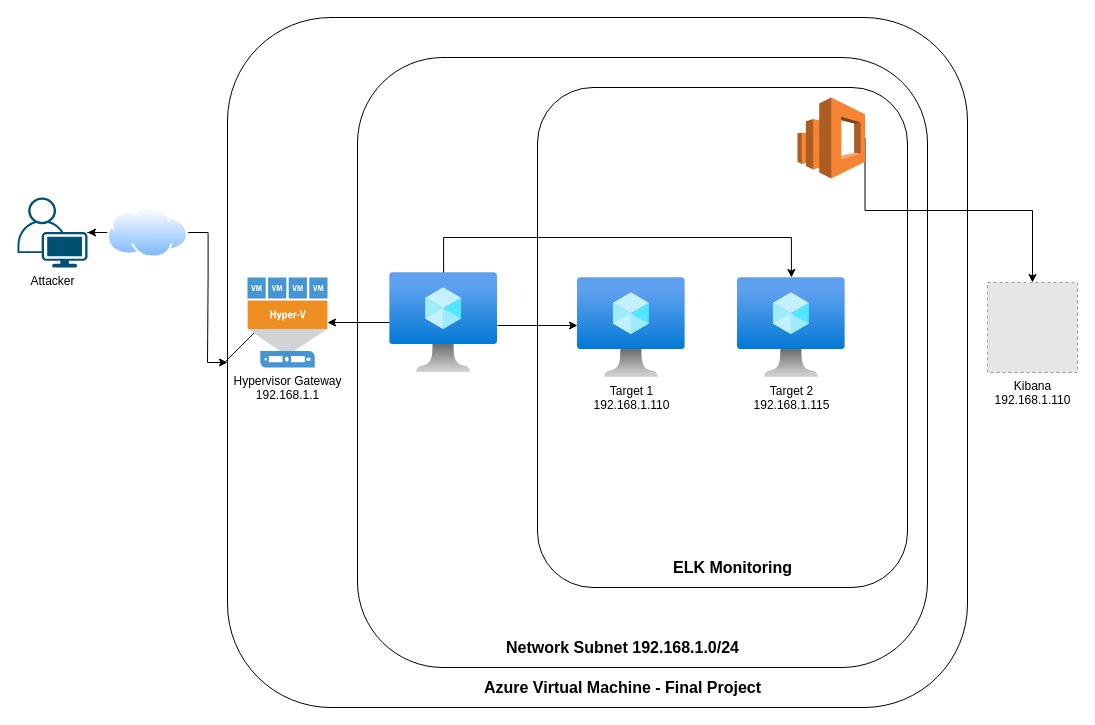
The diagram is 1095 pixels wide and 725 high, and some of its shapes have lost their labels. Grey dashed boxes stand in for pictures. The box of each missing label's shape, as (x1, y1, x2, y2) in pixels:
ELK/Elastic Search 192.168.1.110: (796, 96, 865, 178)
Kali 192.168.1.90: (389, 272, 497, 372)
